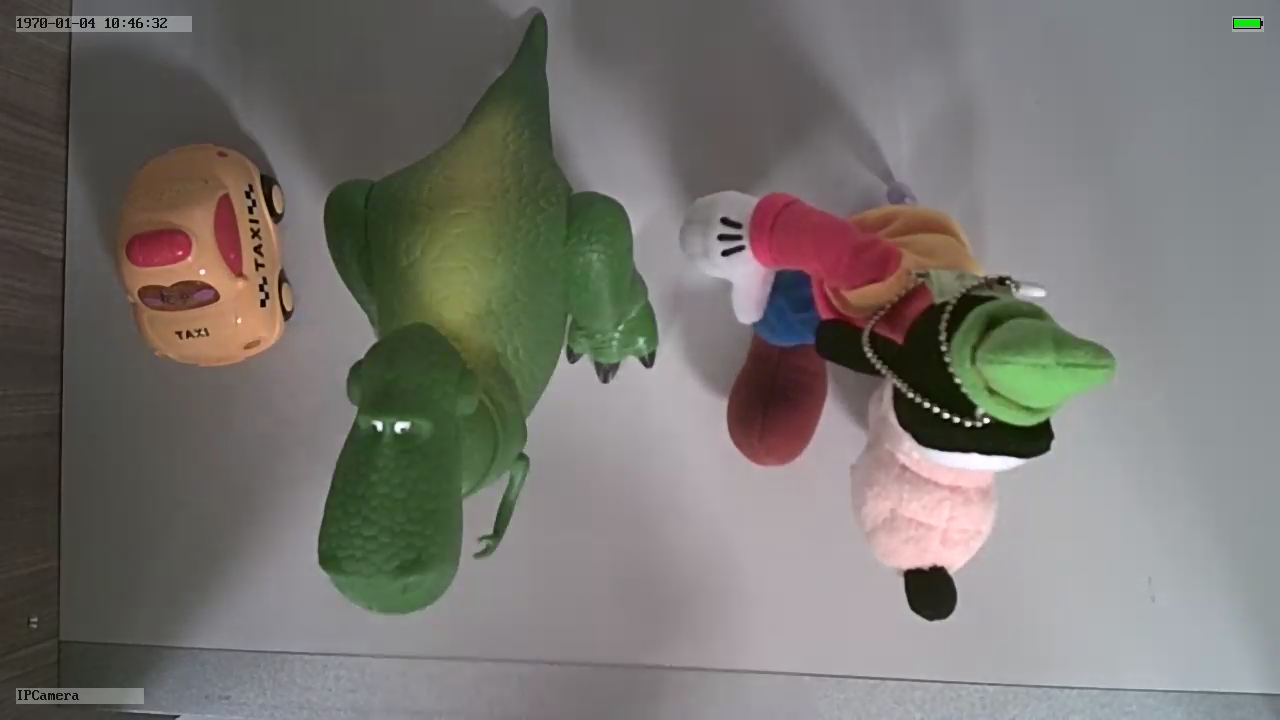goofy: (675, 186, 1119, 627)
